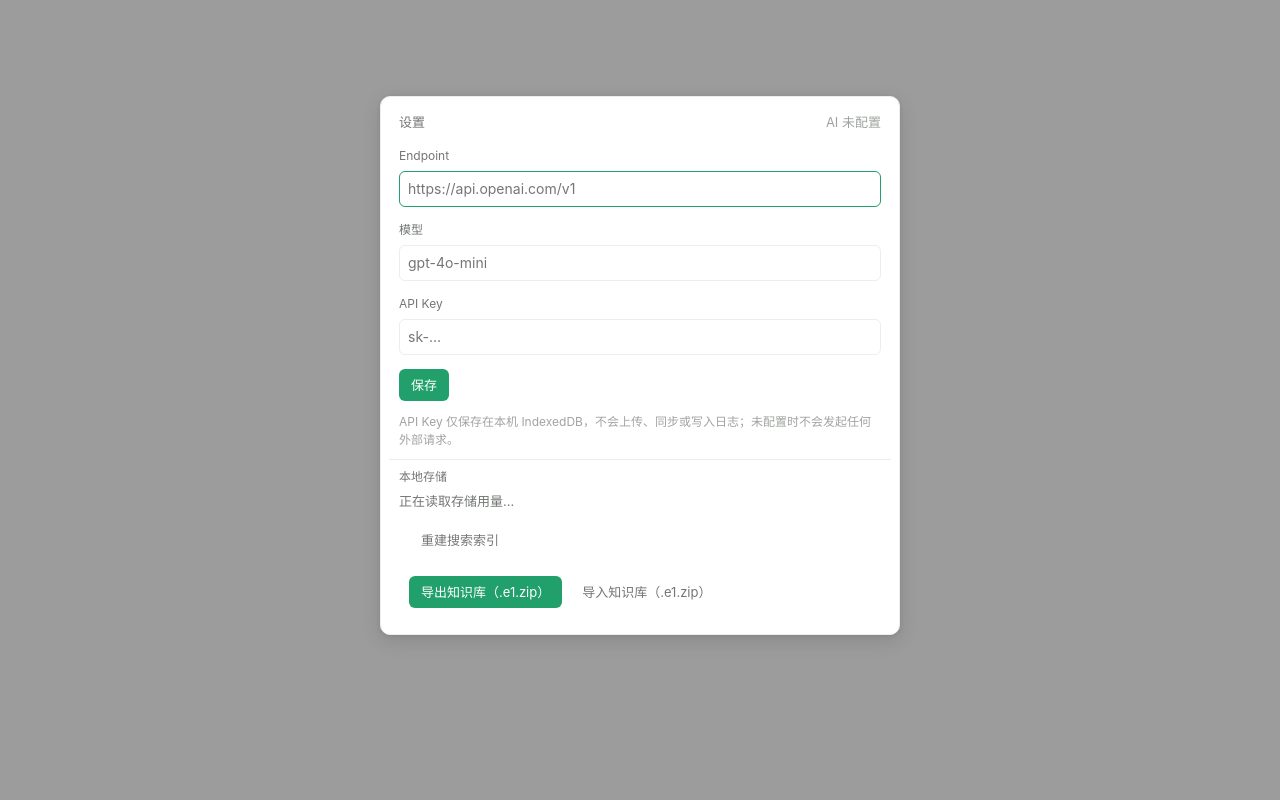
Test: SettingsPanel 重建搜索索引（R008 Stage 6 §13.4） › Desktop 装配：入口可见，点击触发 rebuild 并显示结果
The image size is (1280, 800).
Click the button "重建搜索索引" at (460, 540), box [409, 524, 511, 556]
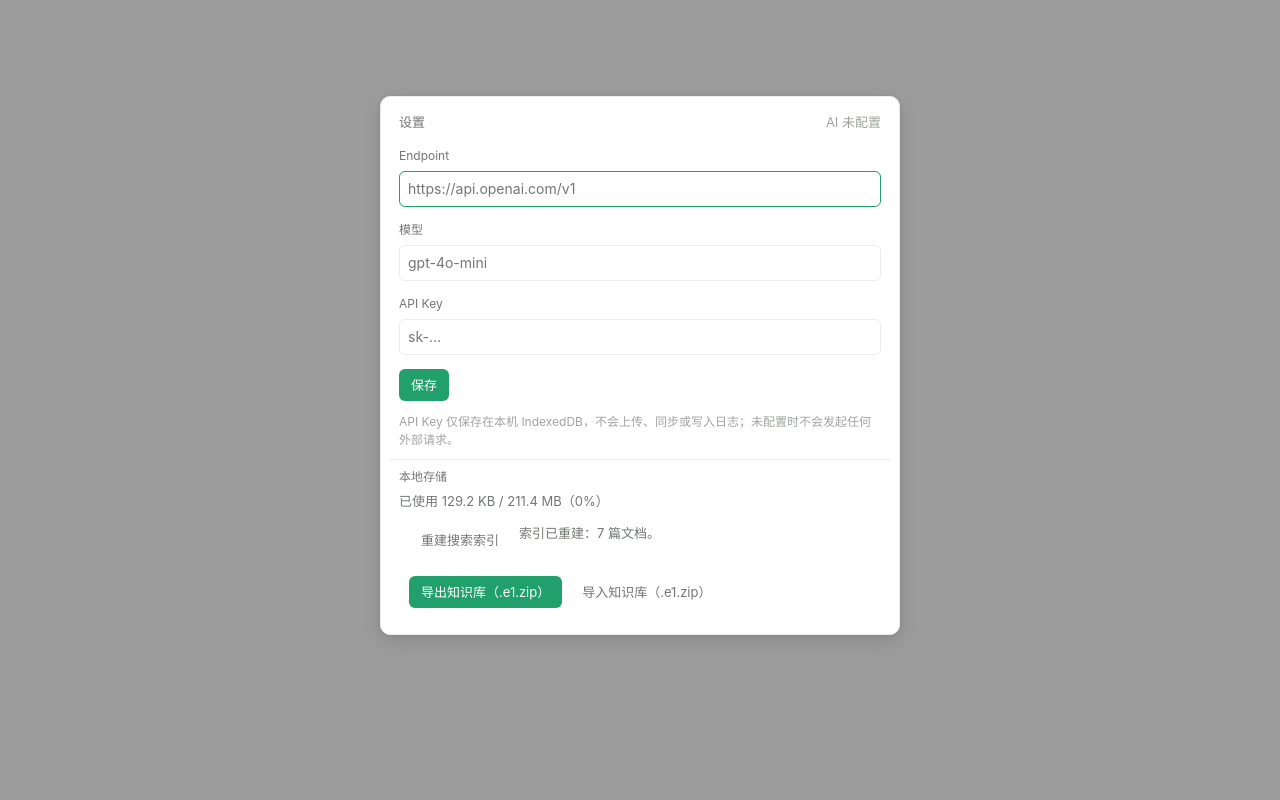
Check: the text "索引已重建：7 篇文档。" is shown, box [519, 524, 660, 540]
